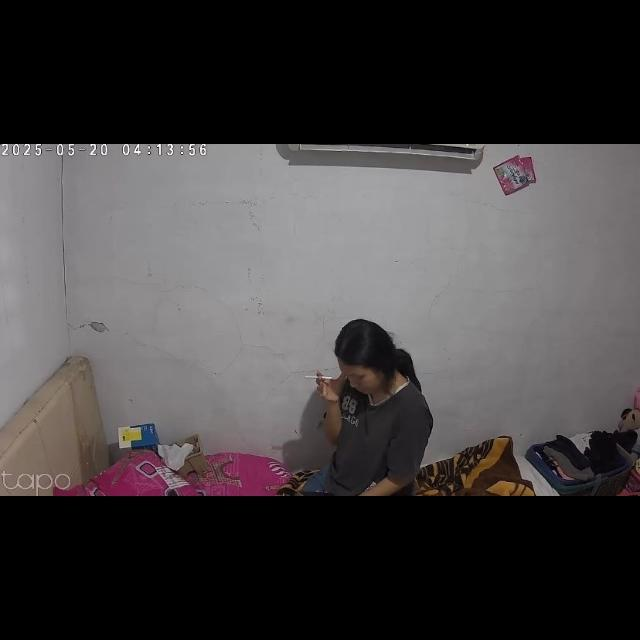rokok: (300, 375, 338, 381)
